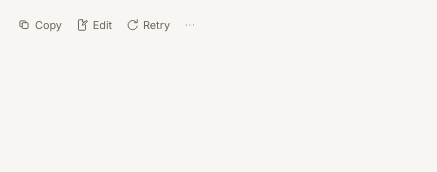
it: MessageActions › says it is working and cannot be pressed twice
Click the button named "More actions for this message" at (190, 25), box x1=178 y1=14 x2=203 y2=36
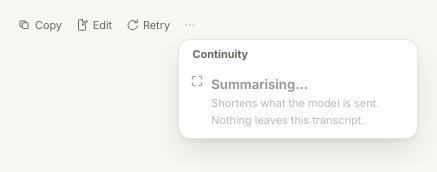
Result: the menu item "Summarising…" is disabled at x1=183 y1=69 x2=413 y2=134
